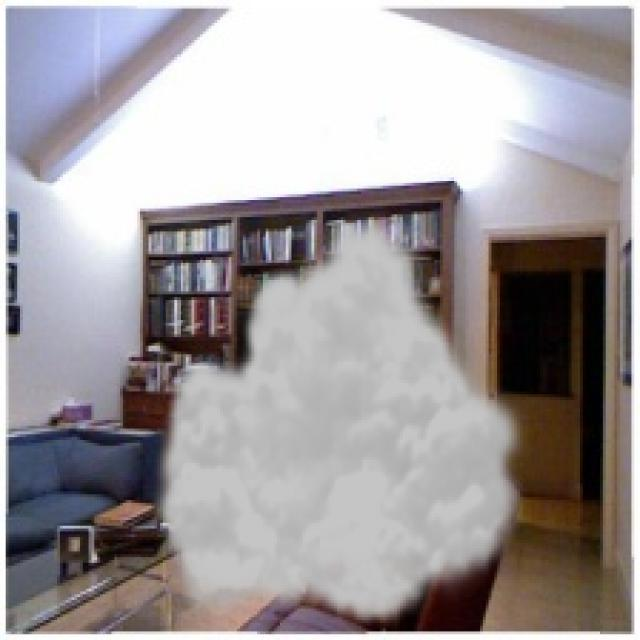Smoke: (148, 208, 534, 628)
